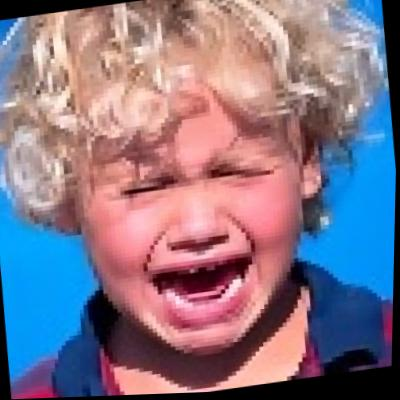sad: (62, 70, 327, 360)
